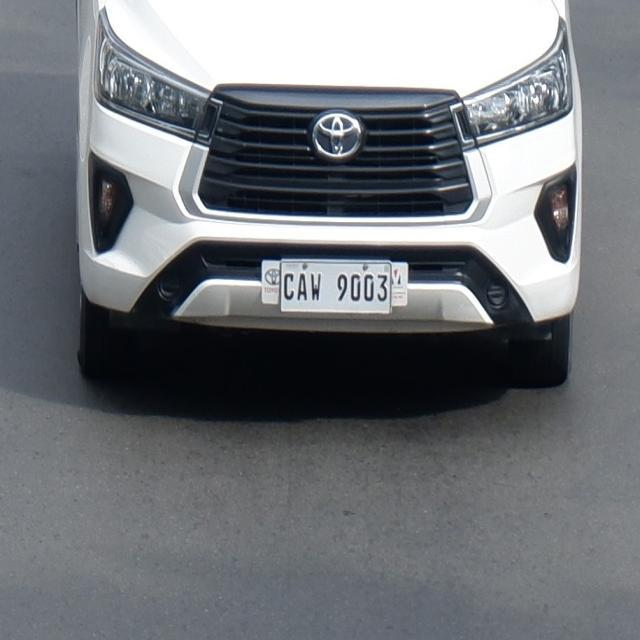LicensePlate: (271, 251, 413, 333)
